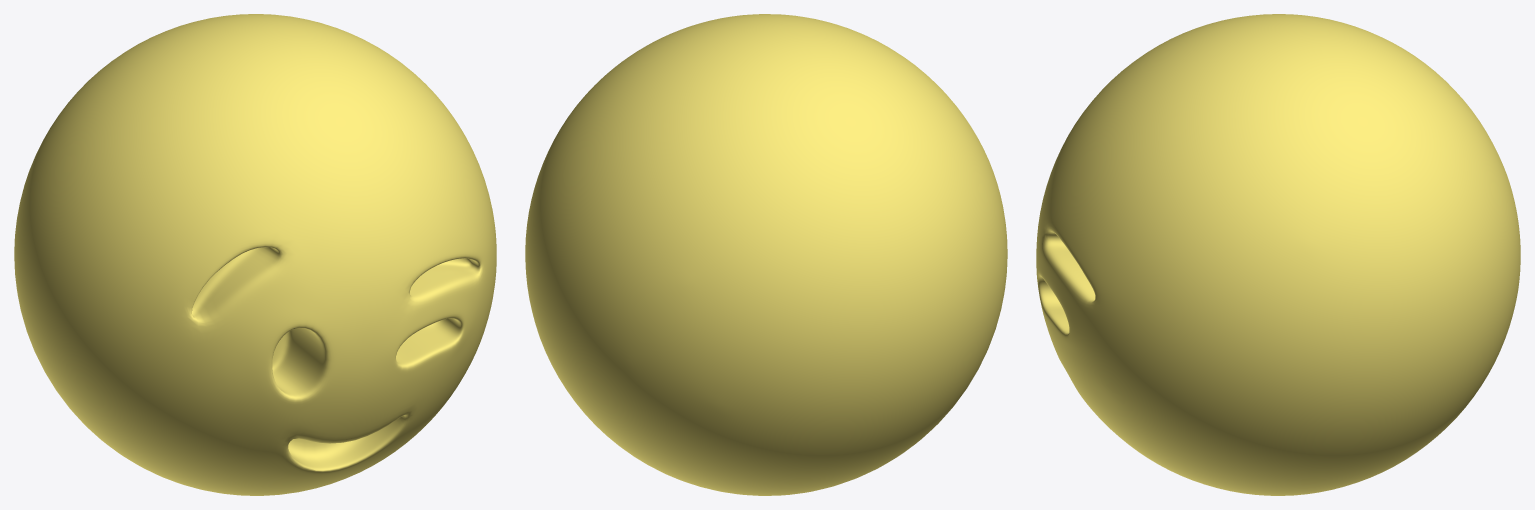
File: 11_wink.glb
3 renders of one model, left to right at view 1: azimuth 30°, elevation 25°; view 2: azimuth 150°, elevation 25°; view 3: azimuth 270°, elevation 25°, orthographic.
Parts seen in each view (by area): view 1: emoji_wink; view 2: emoji_wink; view 3: emoji_wink.
Boxes of the visible parts, left/top/right/bottom form: emoji_wink: left=14, top=14, right=496, bottom=495; emoji_wink: left=525, top=14, right=1007, bottom=495; emoji_wink: left=1036, top=14, right=1520, bottom=495.
Size of the model in its own units: 0.4878 by 0.4872 by 0.4898.
